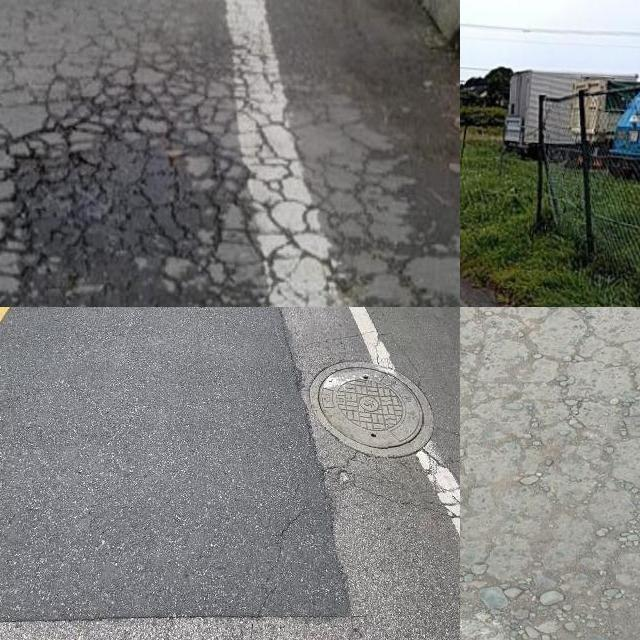Retak Buaya: (0, 39, 343, 307), (460, 307, 640, 591)
Sambungan: (0, 307, 350, 620)
